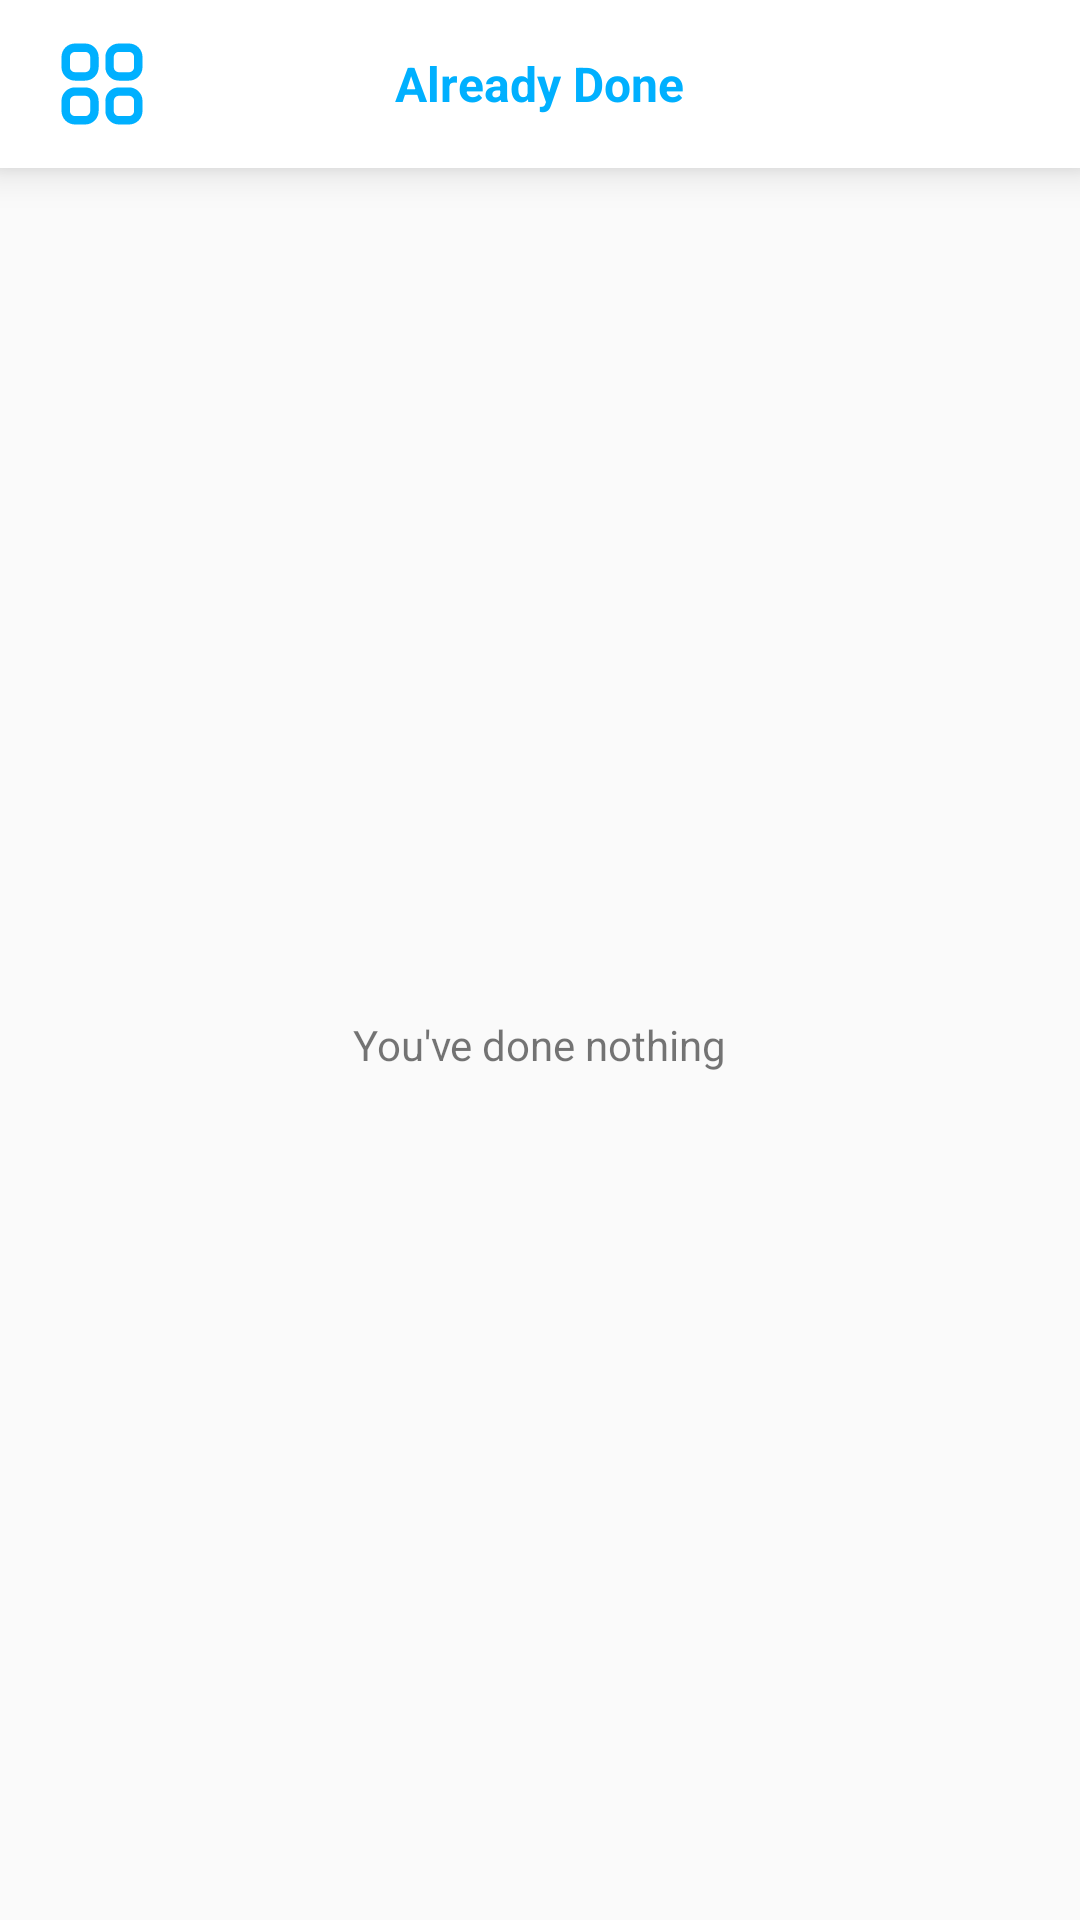

Where icons sit on this 1080px×1920px app screen, as (x1, y1, x2, y2):
menu button: (61, 43, 143, 125)
